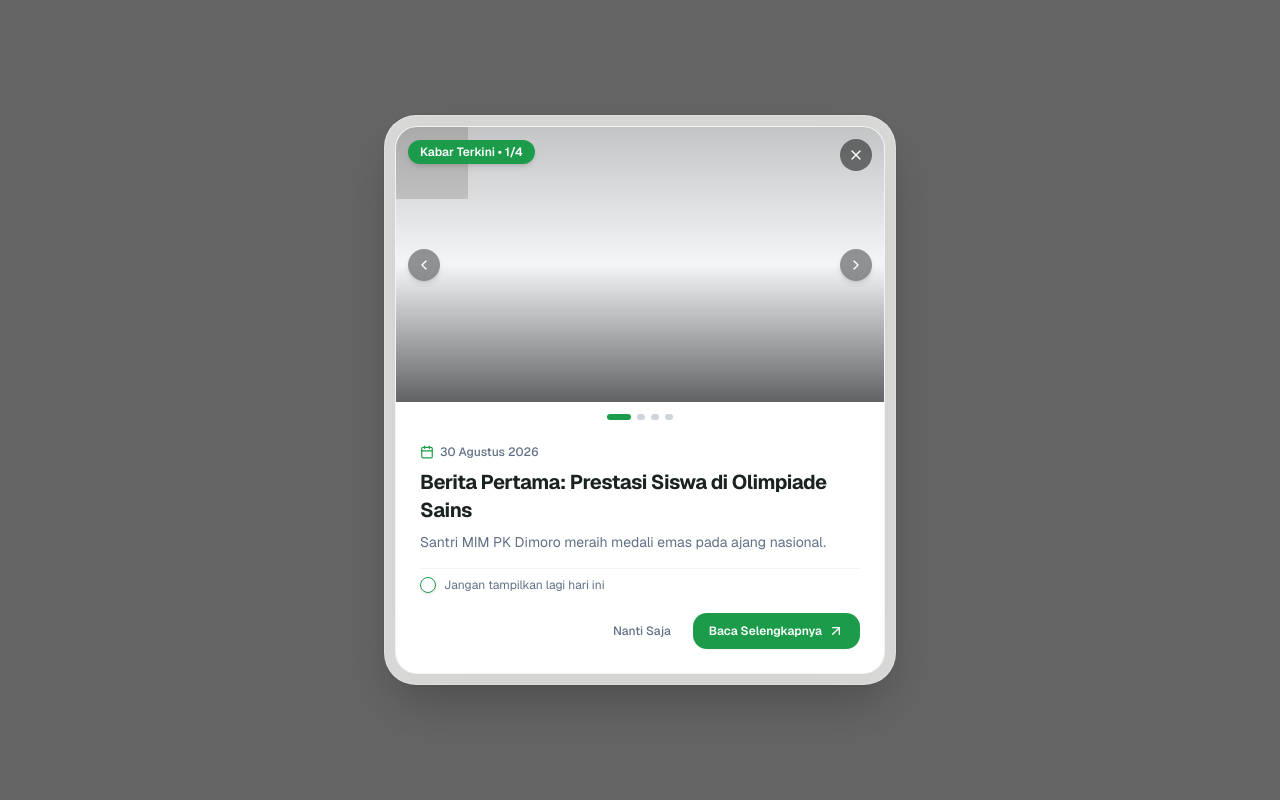
Test: NewsSpotlightModal Component (TDD) › moves currentIndex to previous item on prev button click and wraps around from first to last
Expected: the heading "Berita Pertama: Prestasi Siswa di Olimpiade Sains" is shown, [420,468,860,524]
Click the button named "berita sebelumnya" at point(424, 264), box [408,248,440,280]
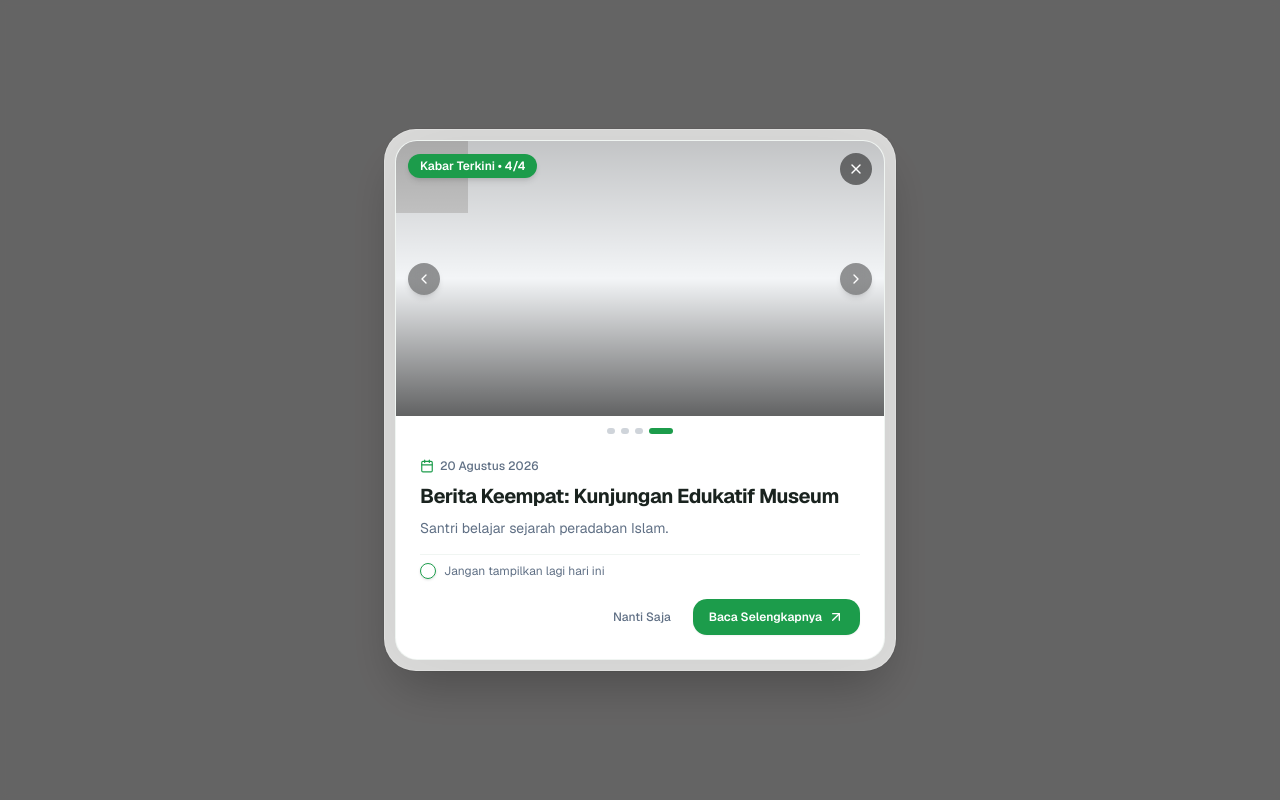
Expected: the heading "Berita Keempat: Kunjungan Edukatif Museum" is shown, [420,482,860,510]
Expected: the text "Kabar Terkini • 4/4" is shown, [408,154,538,178]
Click the button named "berita sebelumnya" at point(424, 278), box [408,262,440,294]
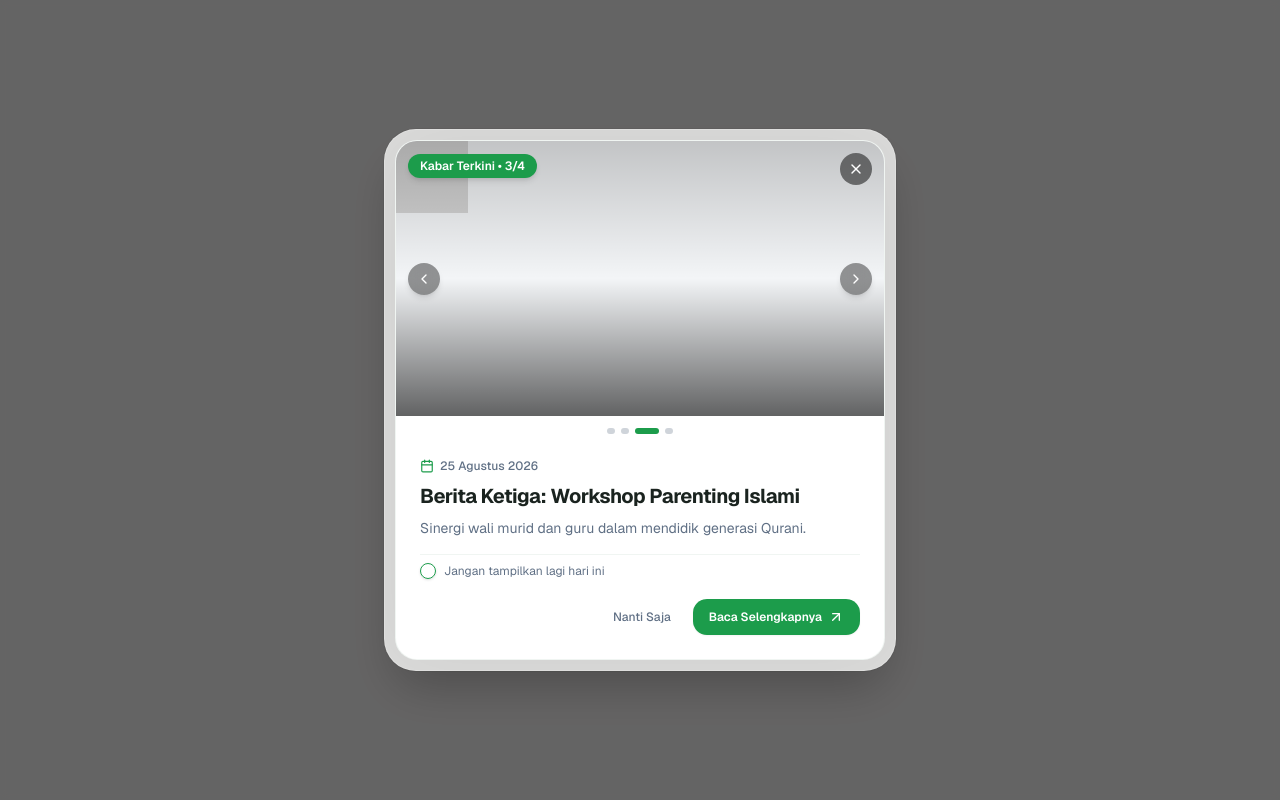
Expected: the heading "Berita Ketiga: Workshop Parenting Islami" is shown, [420,482,860,510]
Expected: the text "Kabar Terkini • 3/4" is shown, [408,154,537,178]
